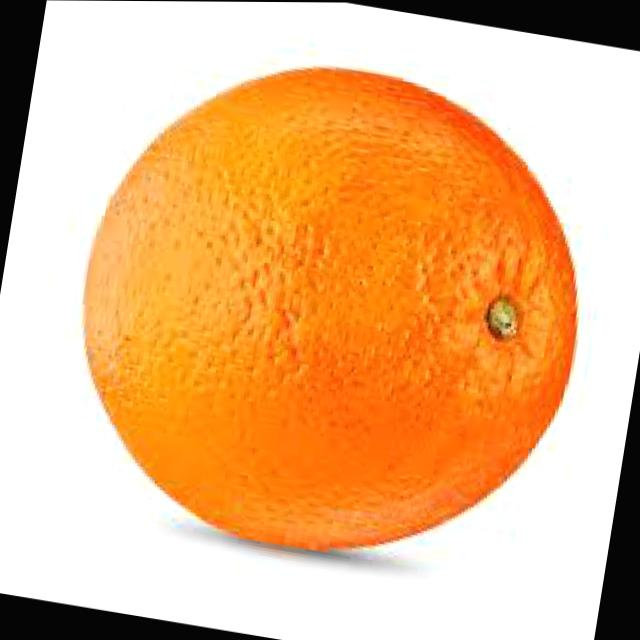orange: (49, 28, 614, 591)
